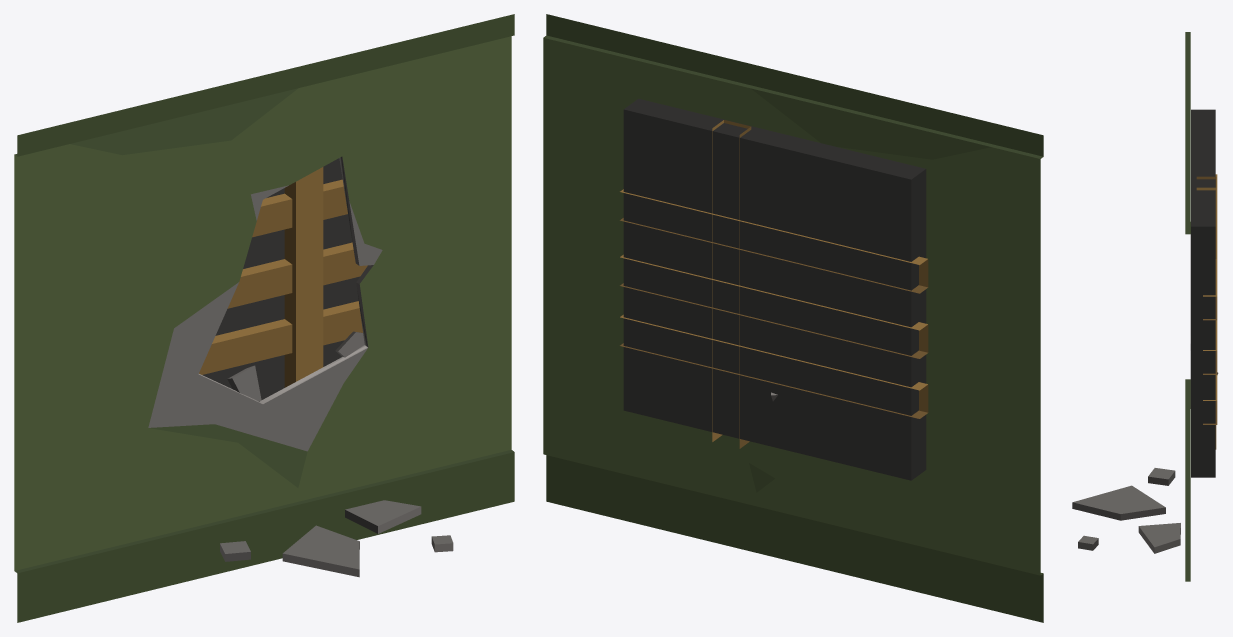
Rendered from AI_Env_Wall_Green_Hole_Large.fbx.
The picture shows the model from 3 angles, left to right: view 1: azimuth 30°, elevation 25°; view 2: azimuth 150°, elevation 25°; view 3: azimuth 270°, elevation 25°; orthographic projection. The views are drawn at different scales.
Parts seen in each view (by area): view 1: AI_Env_Wall_Green_Hole_Large; view 2: AI_Env_Wall_Green_Hole_Large; view 3: AI_Env_Wall_Green_Hole_Large.
Boxes of the visible parts, box(x1,y1,x2,y2) form: AI_Env_Wall_Green_Hole_Large: box(14, 14, 514, 622); AI_Env_Wall_Green_Hole_Large: box(543, 14, 1043, 622); AI_Env_Wall_Green_Hole_Large: box(1072, 32, 1218, 581).
Bounding box in the file's own units: 5 × 4.69 × 1.53.
